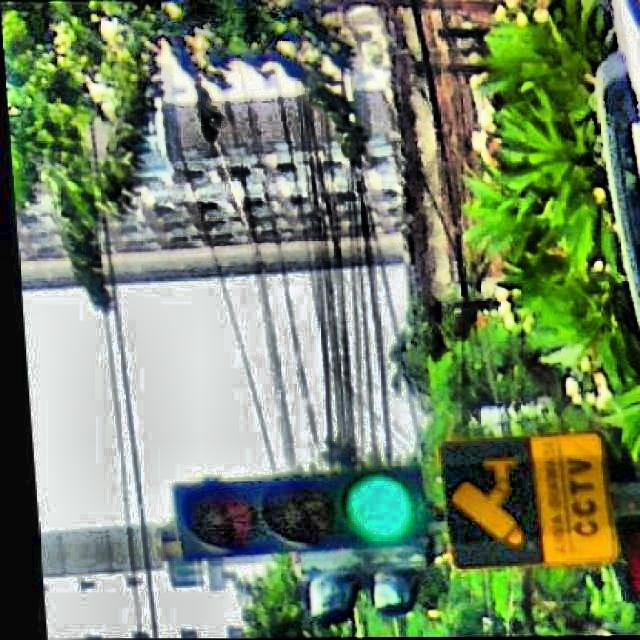green: (182, 469, 432, 556)
